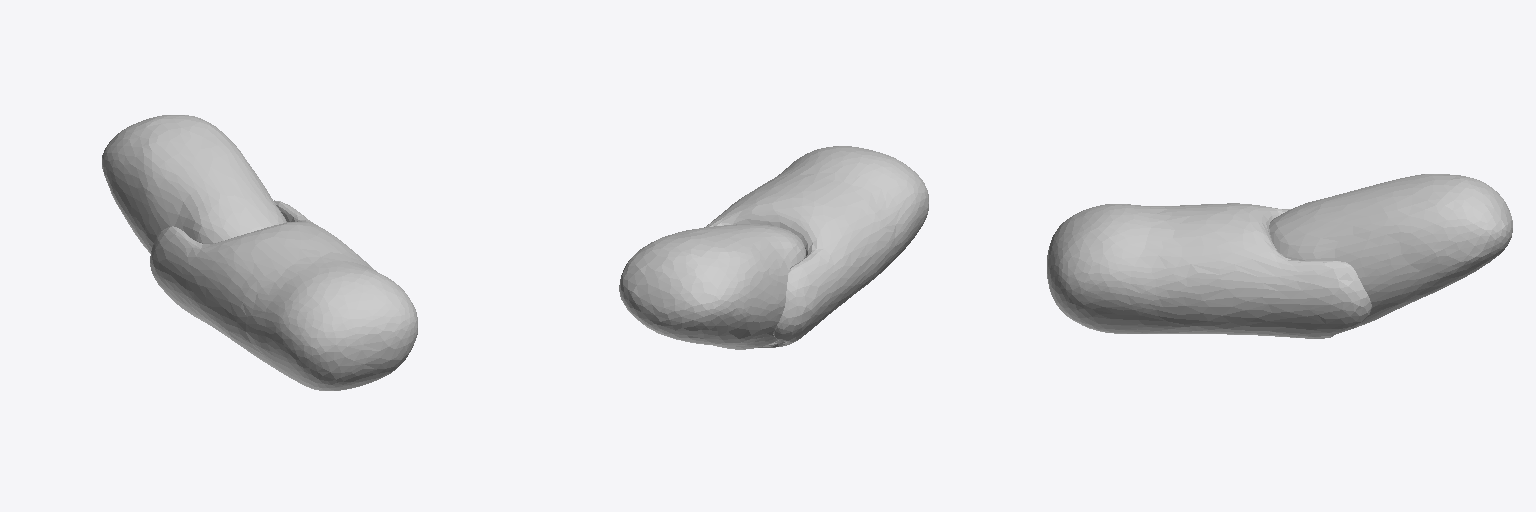
The model's file is seg_finger_tip_mirrored.obj.
3 views of the same model, side by side, from view 1: azimuth 30°, elevation 25°; view 2: azimuth 150°, elevation 25°; view 3: azimuth 270°, elevation 25° (orthographic).
Bounding box in the file's own units: 18.1 × 17.23 × 50.35.